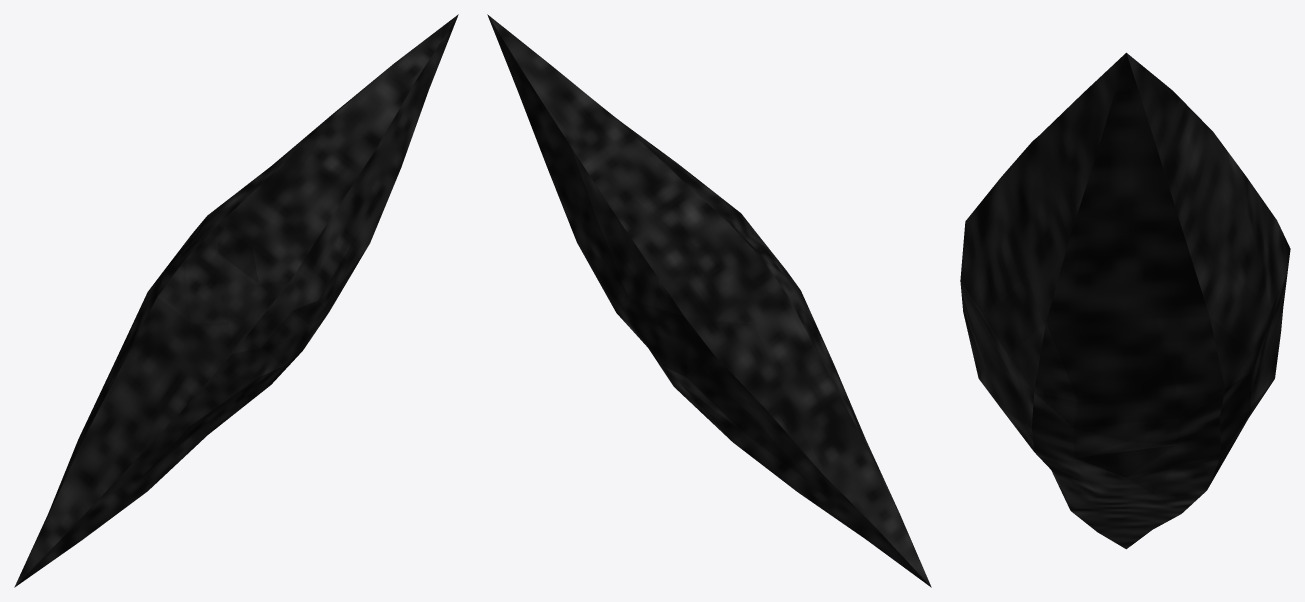
The model's file is chaos_shard.obj.
3 renders of one model, left to right at view 1: azimuth 30°, elevation 25°; view 2: azimuth 150°, elevation 25°; view 3: azimuth 270°, elevation 25°, orthographic. The views are drawn at different scales.
Visible parts, largest first — view 1: chaos_shard; view 2: chaos_shard; view 3: chaos_shard.
Boxes of the visible parts, x1,y1,x2,y2 form: chaos_shard: (14,14,458,587); chaos_shard: (487,14,931,587); chaos_shard: (960,52,1290,549).
Size of the model in its own units: 0.9409 by 0.9409 by 0.3025.
